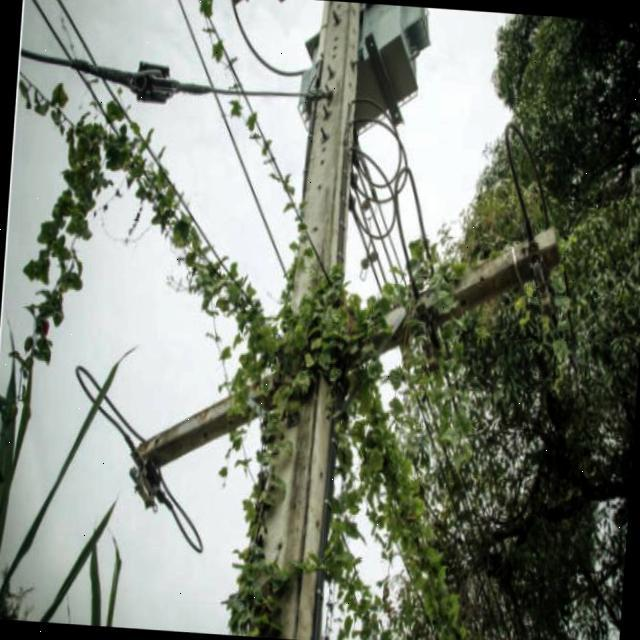critical vegetation: (236, 245, 379, 434), (228, 438, 311, 636)
